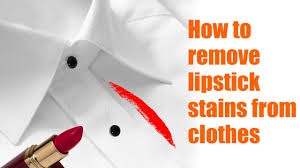kimchi: (138, 104, 179, 146), (107, 81, 144, 113)
